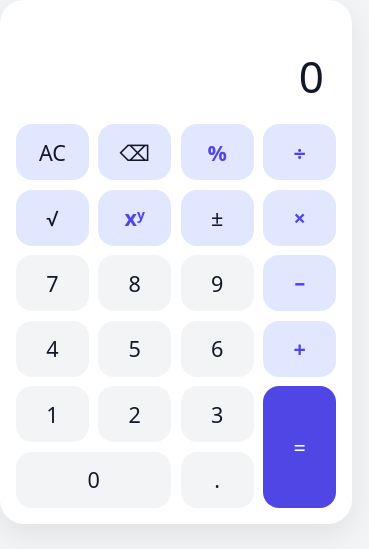
Calculator › ["1","0","multiply","4"] = shows 40
Click the button "1". click: (52,414)
box: [16,386,89,442]
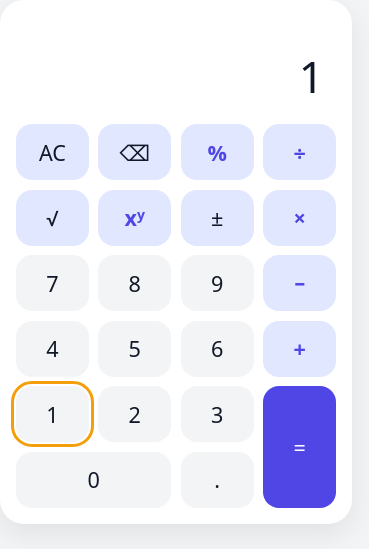
Click the button "0". click: (94,480)
box: [16,452,171,508]
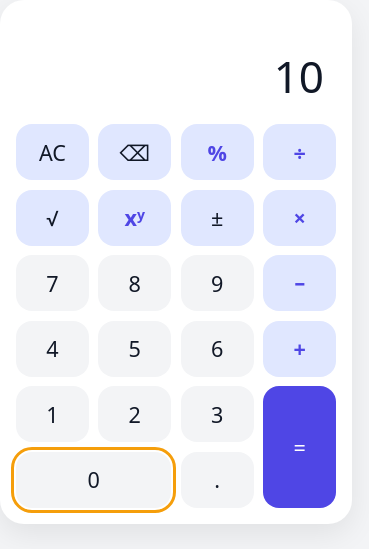
Click the button named "multiply". click: (300,218)
box: [263,190,336,246]
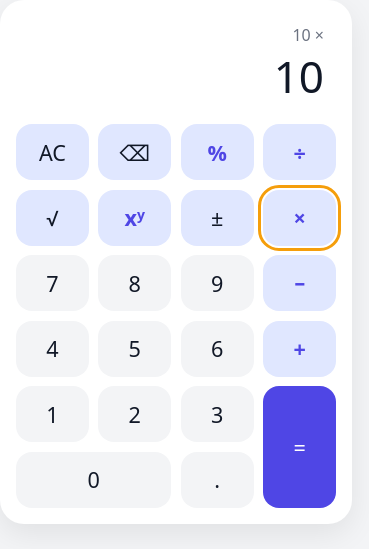
Click the button "4". click: (52,349)
box: [16,321,89,377]
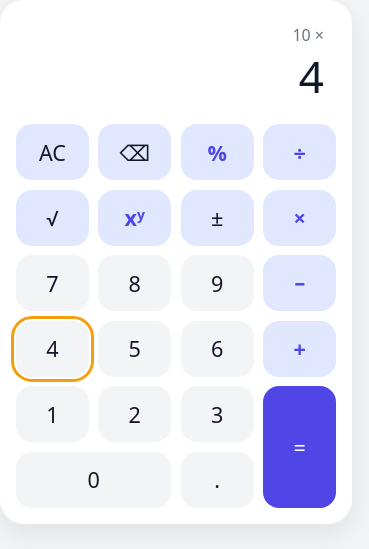
Click the button named "equals". click: (300,447)
box: [263,386,336,508]
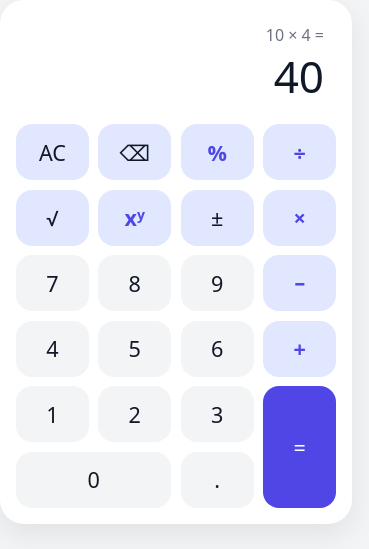
expect the text named "result" reads "40": met, box [274,46,324,106]
